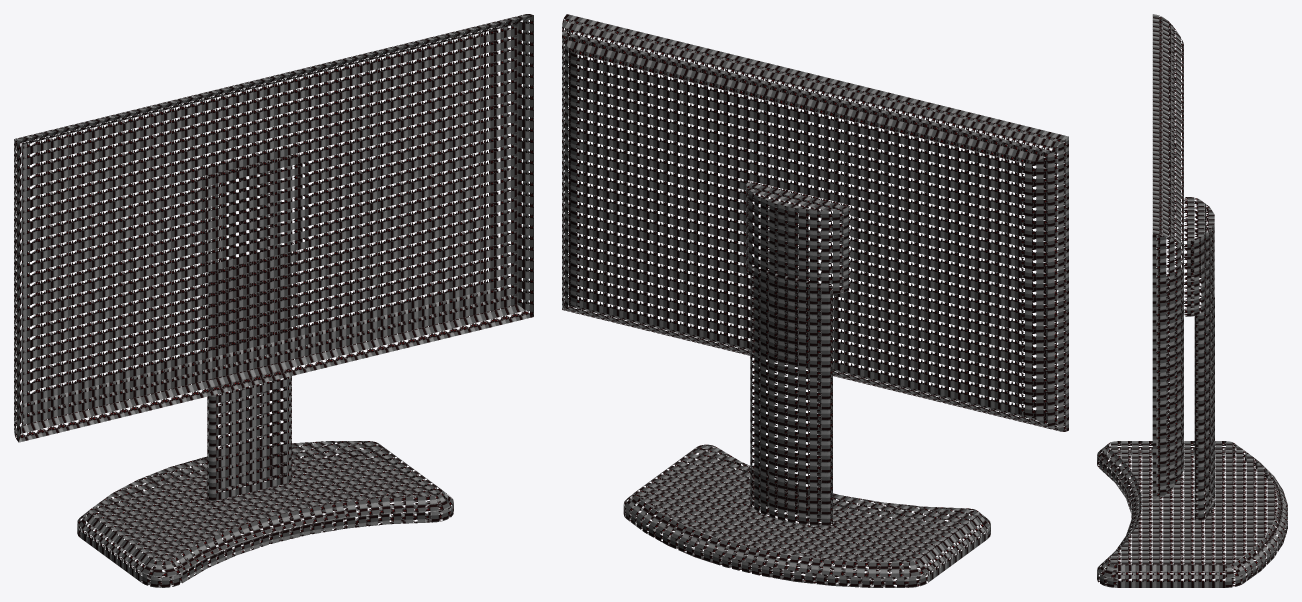
File: monitor.obj
3 renders of one model, left to right at view 1: azimuth 30°, elevation 25°; view 2: azimuth 150°, elevation 25°; view 3: azimuth 270°, elevation 25°, orthographic. The views are drawn at different scales.
Parts seen in each view (by area): view 1: Body1; view 2: Body1; view 3: Body1.
Boxes of the visible parts, left/top/right/bottom form: Body1: left=14, top=14, right=533, bottom=587; Body1: left=562, top=14, right=1068, bottom=587; Body1: left=1097, top=14, right=1287, bottom=587.
Size of the model in its own units: 500 by 420 by 183.
